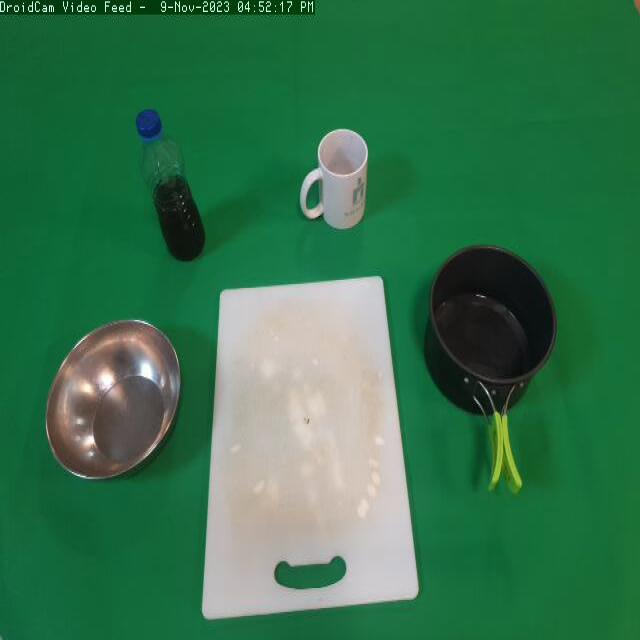bowl: (34, 311, 191, 490)
cup: (290, 109, 378, 258)
cutting board: (196, 264, 422, 633)
fullbottle: (123, 92, 215, 281)
pot: (418, 226, 555, 511)
